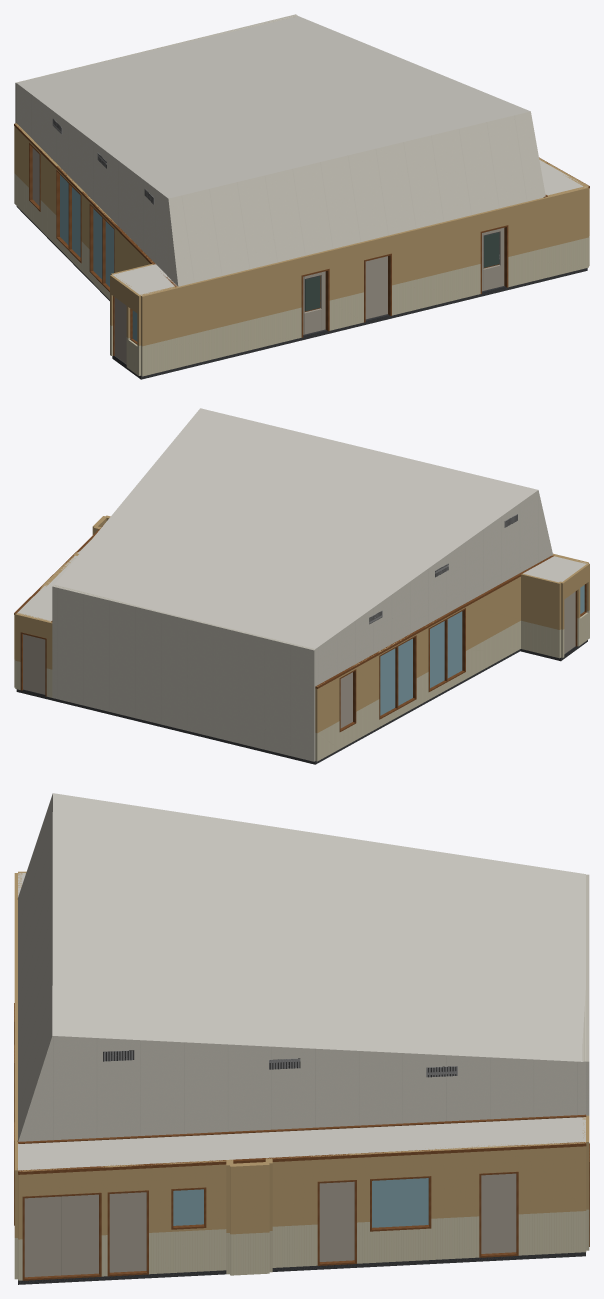
Rendered from room-review.glb.
The picture shows the model from 3 angles, top to bottom: view 1: azimuth 30°, elevation 25°; view 2: azimuth 150°, elevation 25°; view 3: azimuth 270°, elevation 25°; orthographic projection. The views are drawn at different scales.
Visible parts, largest first — view 1: Ceiling_Main, Wall_Upper_Front, Wall_Door_FrontPractice_Pier, Wall_Upper_west, Wall_Door_FrontEast_Pier, Wall_Front_End, Wall_Door_Front_Pier, Floor_ScanFootprint, Wall_Door_West_Rear_Pier, Door_FrontPractice, Door_FrontEast, Door_Front (+13 smaller); view 2: Ceiling_Main, Wall_Rear, Wall_Upper_west, Wall_Window_West_1_Pier, Wall_WorkArea_Return, Window_West_2_Infill, Window_West_1_Infill, Wall_west_End, Floor_ScanFootprint, Wall_Door_West_Rear_Pier, Door_Rear_Aisle, Trim_west (+8 smaller); view 3: Ceiling_Main, Wall_Upper_east, Ceiling_East, Wall_Upper_Front, Wall_east_outer_End, Door_East_Front_Infill, Wall_Door_East_Practice_B_Pier, Wall_Door_East_Practice_A_Pier, Wall_Fountain_Back, Door_East_FrontRoom_Infill, Door_East_Practice_B_Infill, Door_East_Practice_A_Infill (+19 smaller).
Boxes of the visible parts, x1,y1,x2,y2 form: Ceiling_Main: [17, 16, 530, 198]; Wall_Upper_Front: [168, 111, 545, 286]; Wall_Door_FrontPractice_Pier: [140, 257, 302, 376]; Wall_Upper_west: [16, 83, 178, 286]; Wall_Door_FrontEast_Pier: [390, 213, 481, 315]; Wall_Front_End: [506, 186, 588, 287]; Wall_Door_Front_Pier: [328, 241, 364, 330]; Floor_ScanFootprint: [16, 206, 587, 379]; Wall_Door_West_Rear_Pier: [40, 150, 58, 245]; Door_FrontPractice: [303, 271, 325, 334]; Door_FrontEast: [482, 228, 504, 291]; Door_Front: [365, 256, 387, 319]; Ceiling_Main: [54, 408, 537, 648]; Wall_Rear: [52, 585, 315, 761]; Wall_Upper_west: [315, 490, 552, 686]; Wall_Window_West_1_Pier: [465, 576, 520, 678]; Wall_WorkArea_Return: [521, 573, 560, 658]; Window_West_2_Infill: [380, 638, 412, 715]; Window_West_1_Infill: [430, 611, 462, 688]; Wall_west_End: [315, 677, 339, 761]; Floor_ScanFootprint: [16, 640, 587, 764]; Wall_Door_West_Rear_Pier: [355, 654, 379, 739]; Door_Rear_Aisle: [23, 634, 45, 694]; Trim_west: [315, 555, 554, 688]; Ceiling_Main: [52, 793, 585, 1061]; Wall_Upper_east: [18, 1036, 585, 1141]; Ceiling_East: [18, 1117, 585, 1170]; Wall_Upper_Front: [18, 793, 52, 1140]; Wall_east_outer_End: [518, 1142, 586, 1255]; Door_East_Front_Infill: [24, 1194, 98, 1277]; Wall_Door_East_Practice_B_Pier: [431, 1146, 479, 1259]; Wall_Door_East_Practice_A_Pier: [271, 1155, 317, 1267]; Wall_Fountain_Back: [229, 1162, 269, 1275]; Door_East_FrontRoom_Infill: [109, 1192, 146, 1272]; Door_East_Practice_B_Infill: [481, 1173, 516, 1253]; Door_East_Practice_A_Infill: [319, 1181, 354, 1261].
Size of the model in its own units: 16.28 by 5.58 by 13.18.
36 materials, 11 textured.
